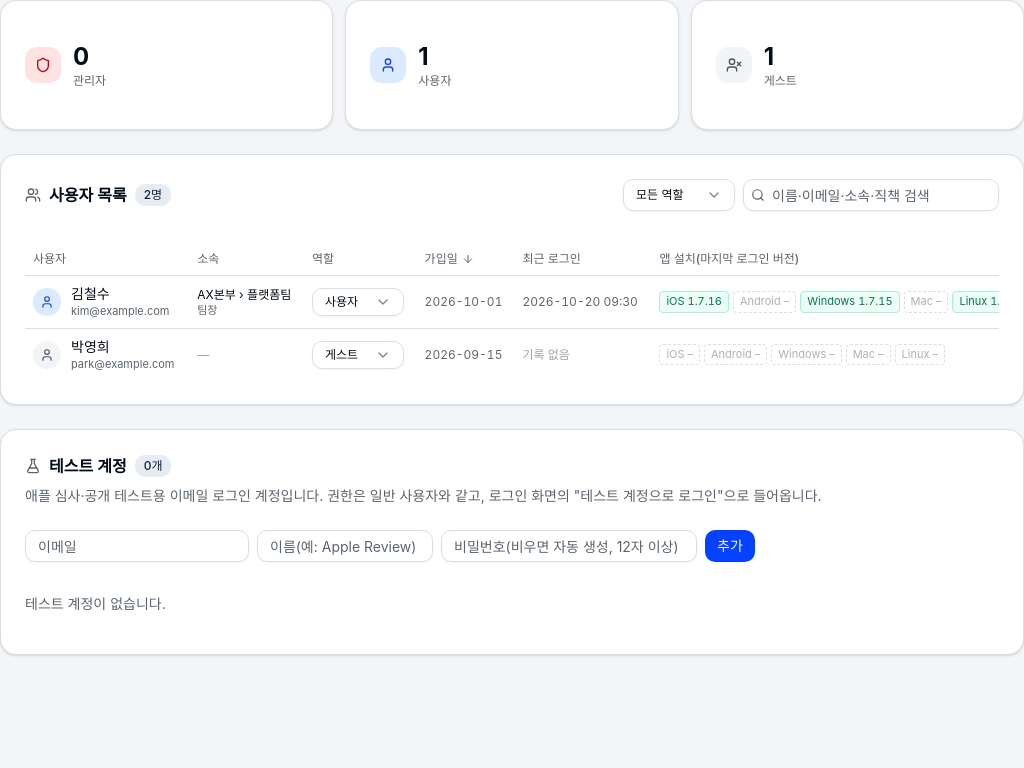
Test: 표에 가입일·최근 로그인·설치 버전이 보이고 검색어로 줄인다
Expected: the row named "김철수 상세 보기" shows "AX본부 › 플랫폼팀", [197,286,291,302]
Expected: the row named "김철수 상세 보기" shows "2026-10-01", [425,294,502,309]
In the field named "사용자 검색": (871, 195) [743,179,999,211], type "플랫폼"
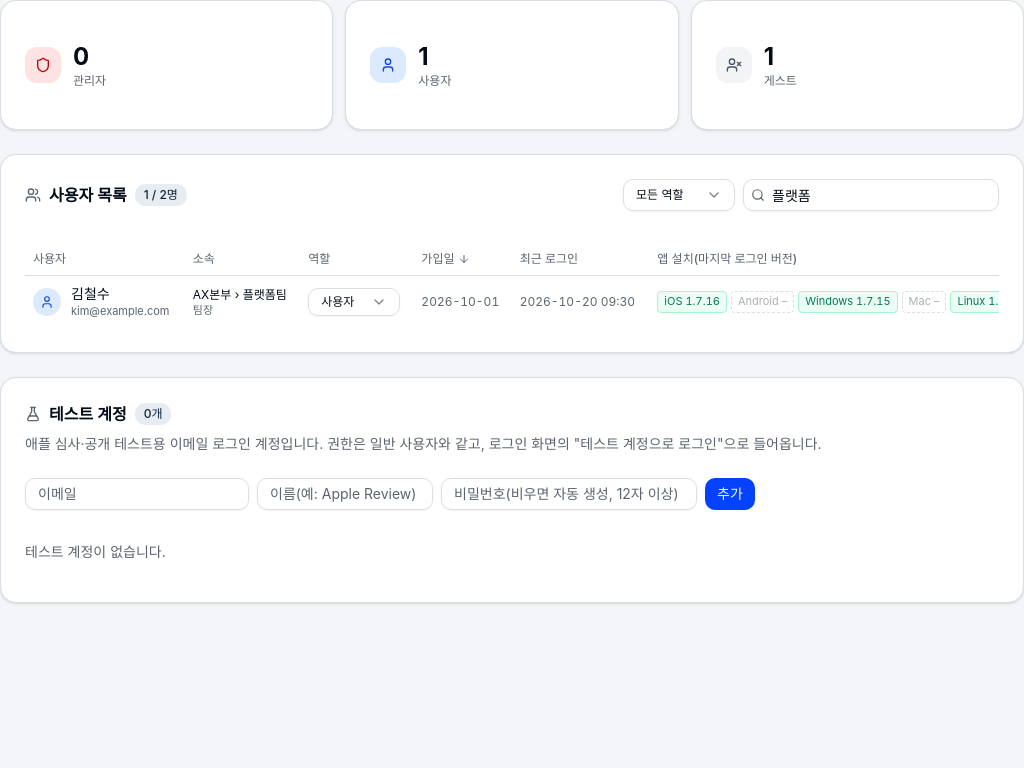
Expected: the row named "김철수 상세 보기" is shown, [25,276,999,328]
Replace the text in the field named "사용자 검색" with "없는사람": (871, 195) [743,179,999,211]
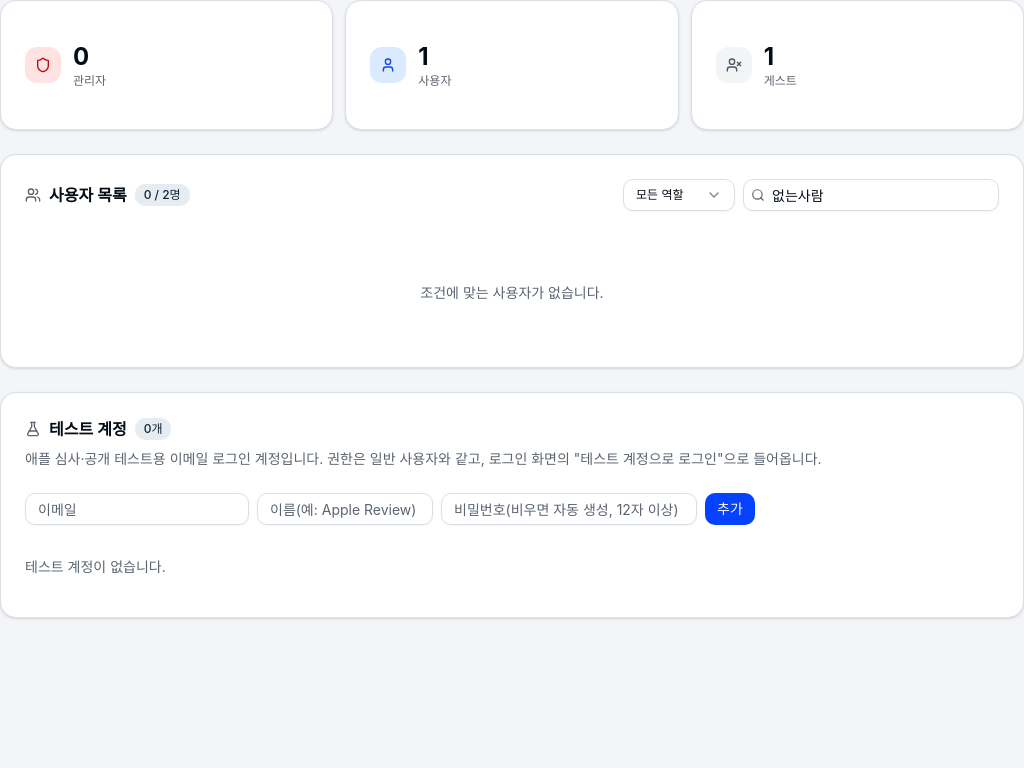
Expected: the text "조건에 맞는 사용자가 없습니다." is shown, [420,284,604,301]
